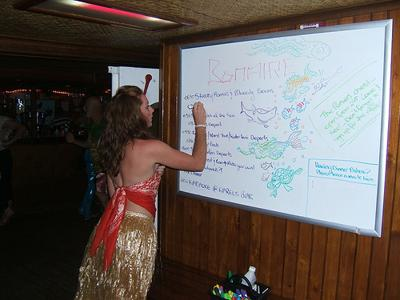person: (78, 86, 207, 299)
